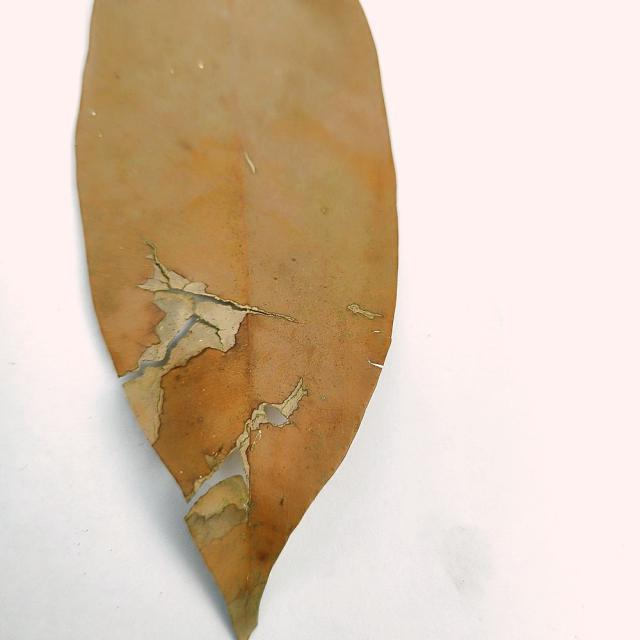Dry_Leaf-Lychee: (73, 0, 400, 639)
